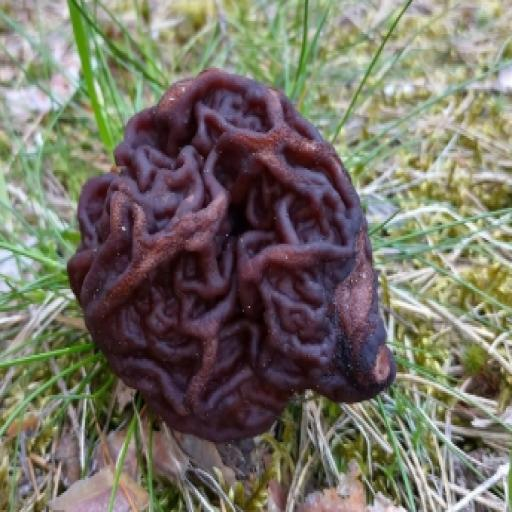mushroom: (55, 61, 397, 446)
